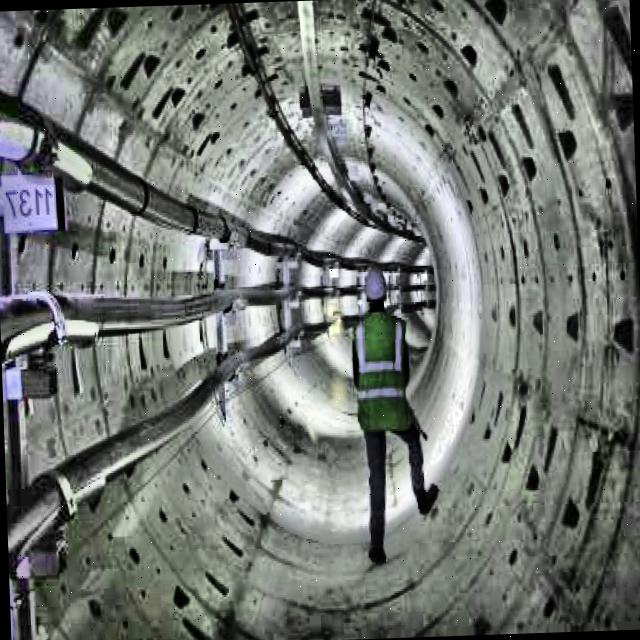helmet: (360, 264, 390, 316)
